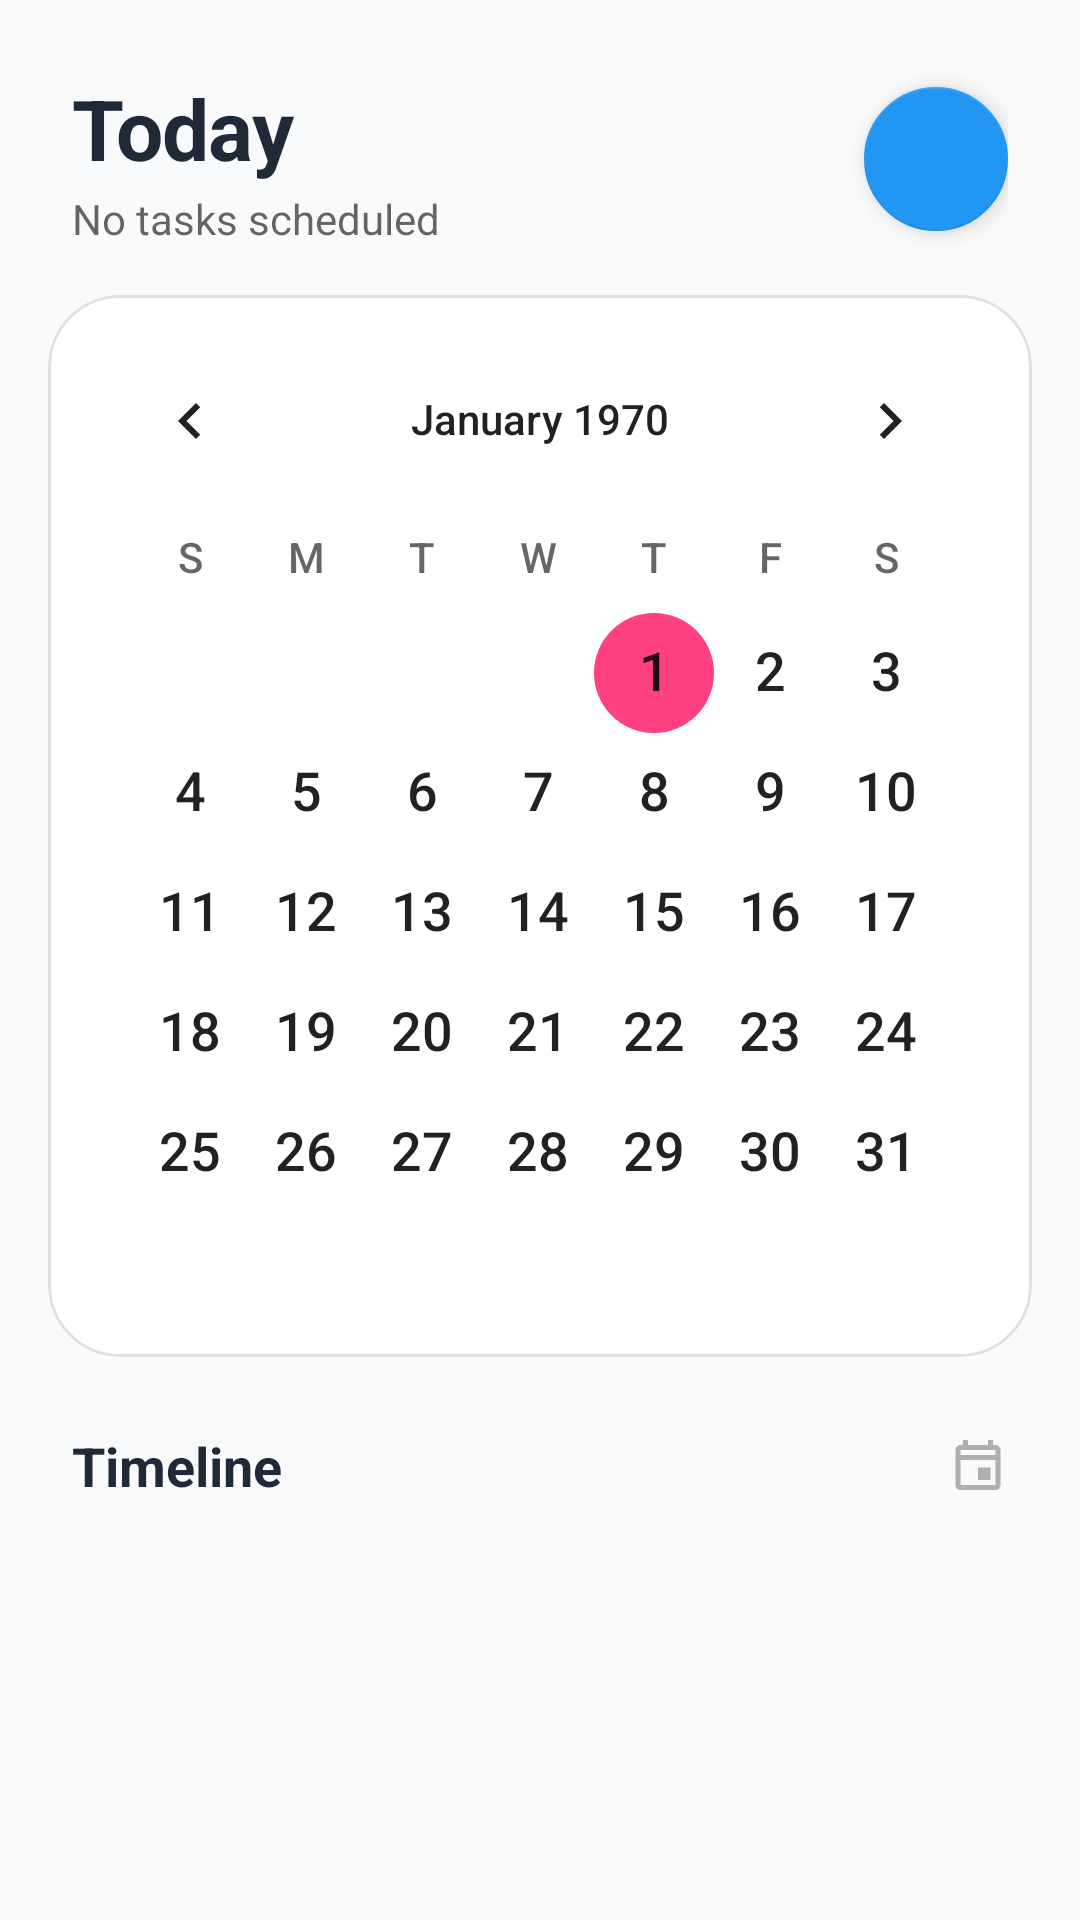

Named icons in this screenshot (1080 x 1920) and their bounding boxes, (x1, y1, x2, y2):
calendar: (955, 1440, 1001, 1490)
